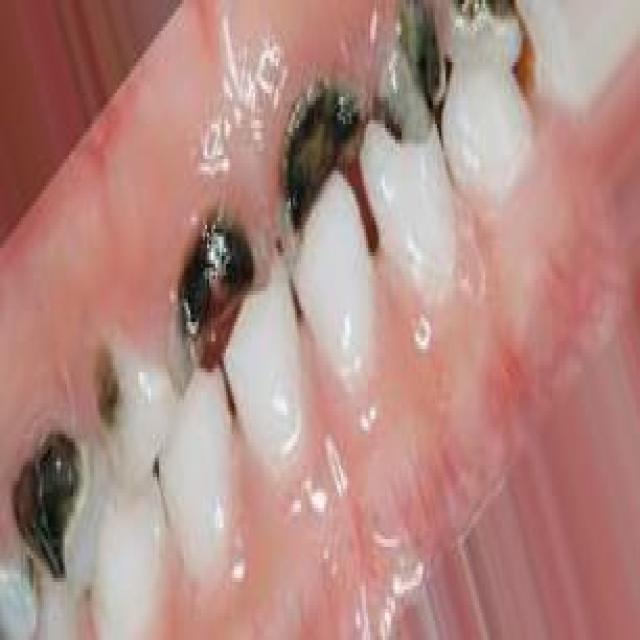caries: (271, 70, 366, 269), (163, 202, 264, 388), (5, 421, 95, 588), (372, 0, 445, 157), (84, 330, 129, 433), (446, 0, 518, 47)
